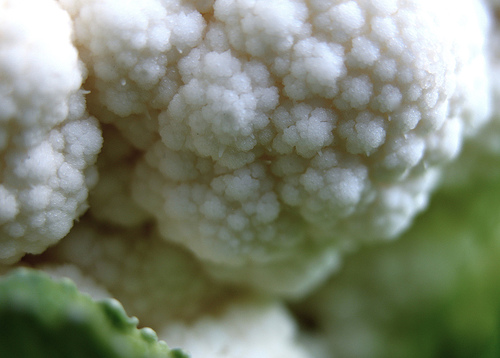cauliflower: (78, 0, 497, 273), (36, 219, 307, 355), (0, 0, 105, 264)
